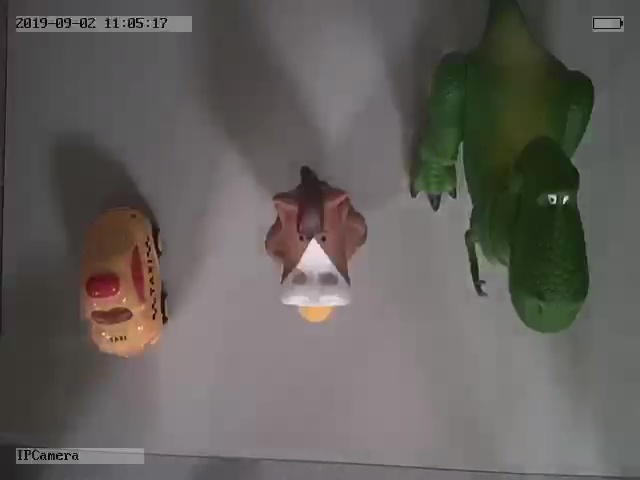car: (78, 204, 171, 358)
horse: (265, 164, 368, 324)
rex: (408, 4, 595, 334)
